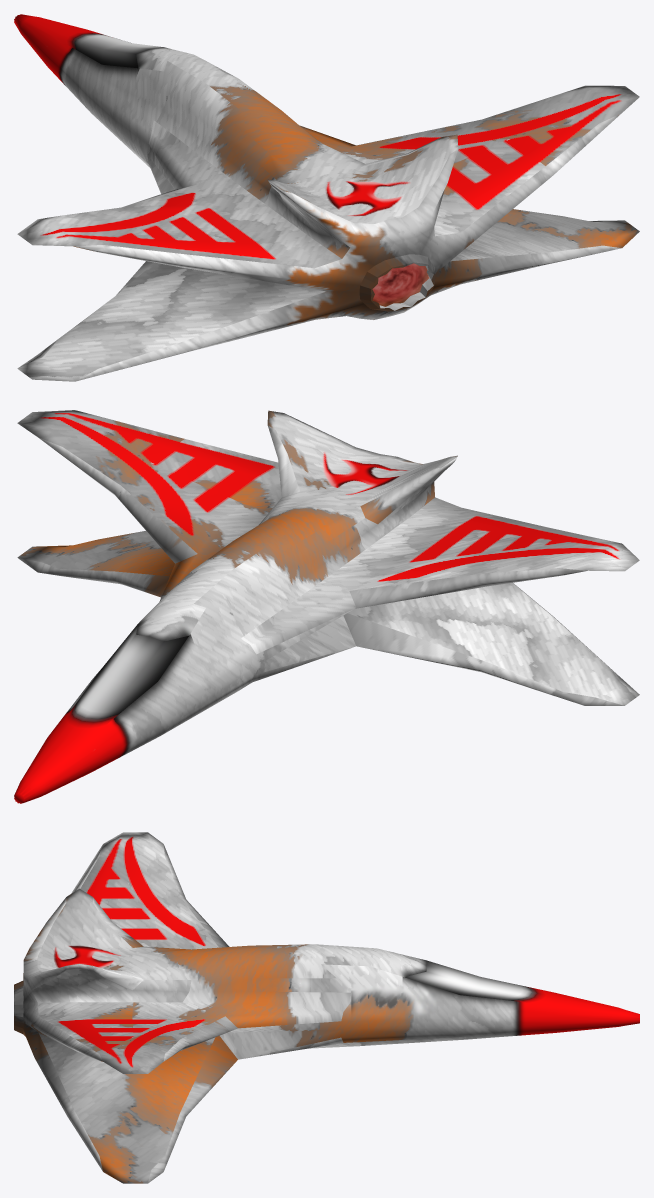
Rendered from G35hopper.fbx.
3 renders of one model, top to bottom at view 1: azimuth 30°, elevation 25°; view 2: azimuth 150°, elevation 25°; view 3: azimuth 270°, elevation 25°, orthographic. The views are drawn at different scales.
Visible parts, largest first — view 1: pCylinder1; view 2: pCylinder1; view 3: pCylinder1.
Part boxes in pixels (<box>): pCylinder1: <box>14,14,639,381</box>; pCylinder1: <box>14,410,639,803</box>; pCylinder1: <box>14,832,639,1183</box>.
Bounding box in the file's own units: 18.53 × 5 × 20.27.
Materials: 1 (1 with a texture image).
